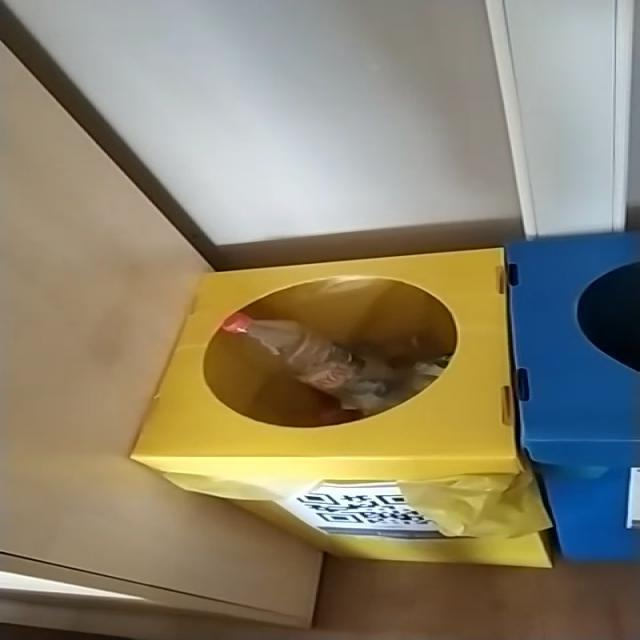Plastic: (221, 314, 395, 415)
